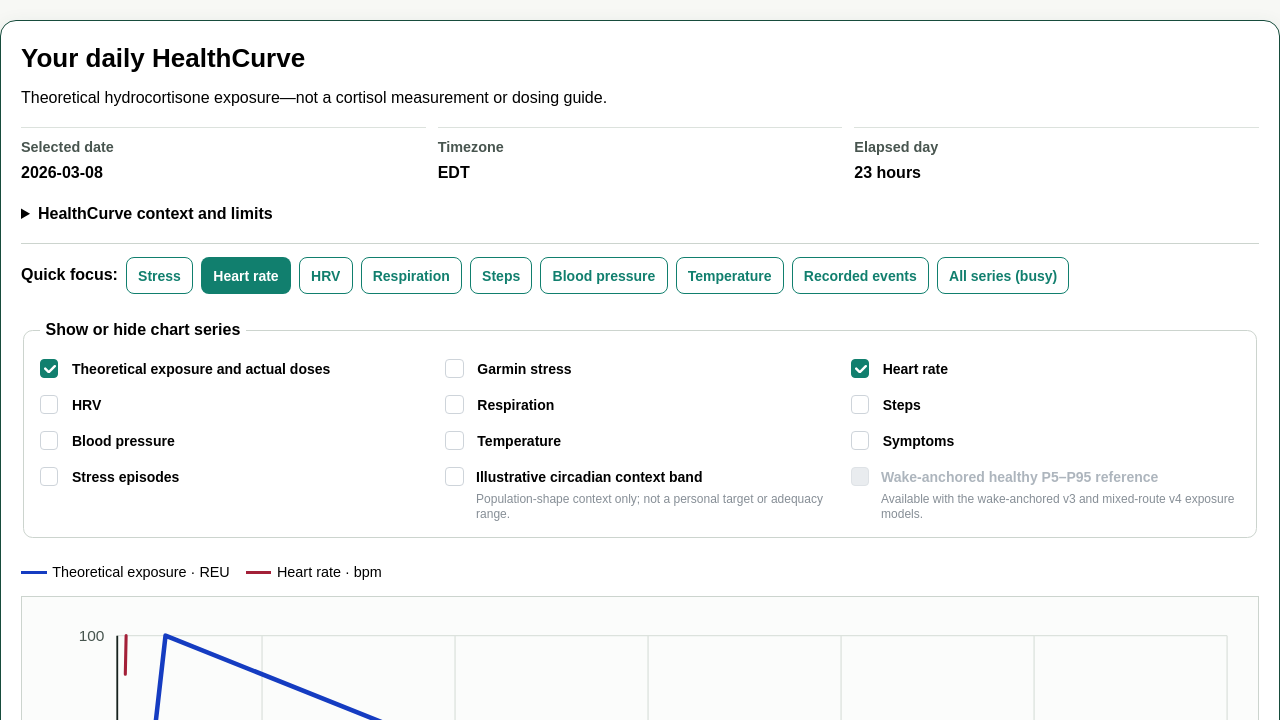
Scenario: Daily HealthCurve › breaks recorded curves across missing cadence intervals
Click the button "Heart rate": (246, 276) [201,257,291,294]
(page scrolled)
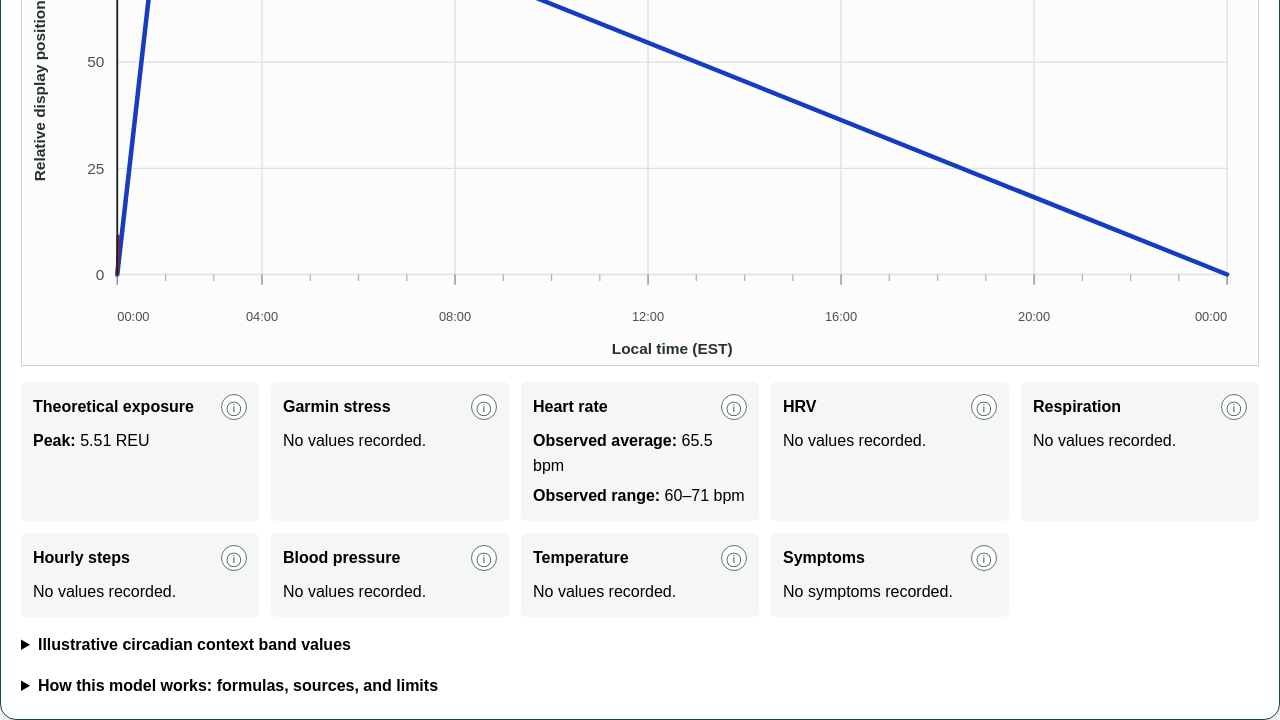
Focus the button named "About Heart rate data": (734, 407) [721,394,747,420]
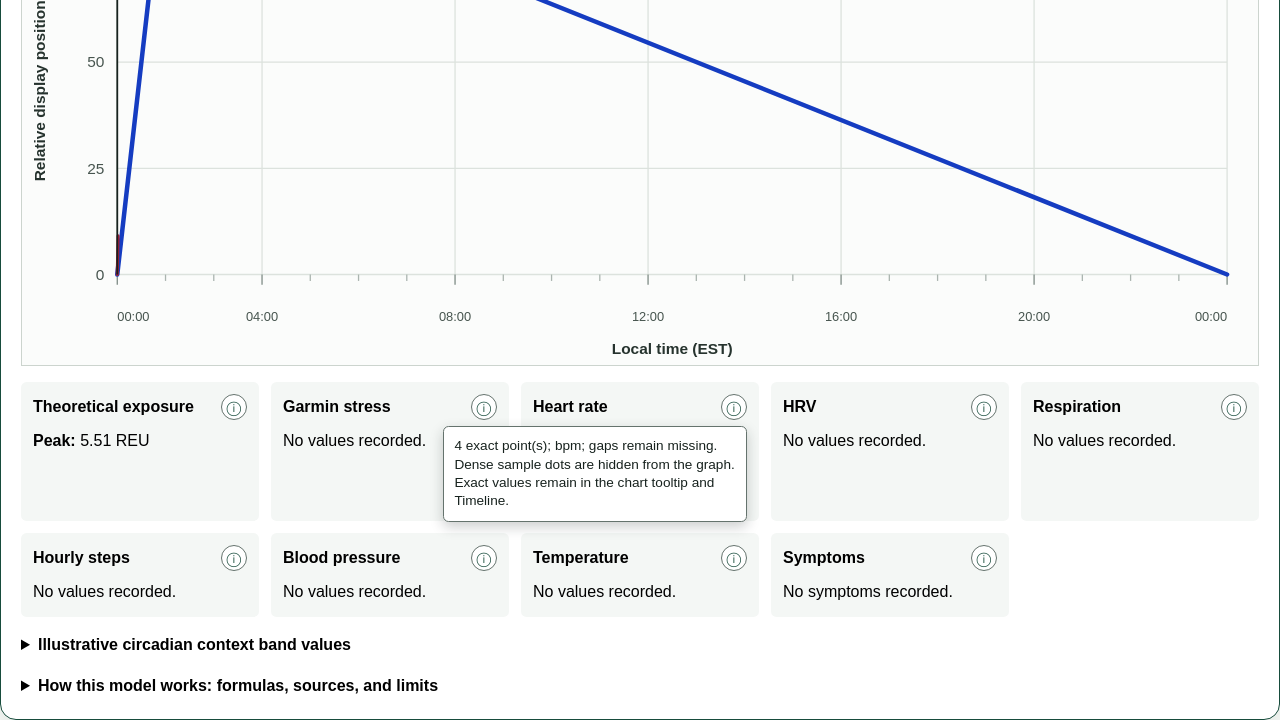
Expected: the tooltip shows "4 exact point(s)", [454,438,735,508]
Expected: the tooltip shows "Dense sample dots are hidden", [454,438,735,508]
